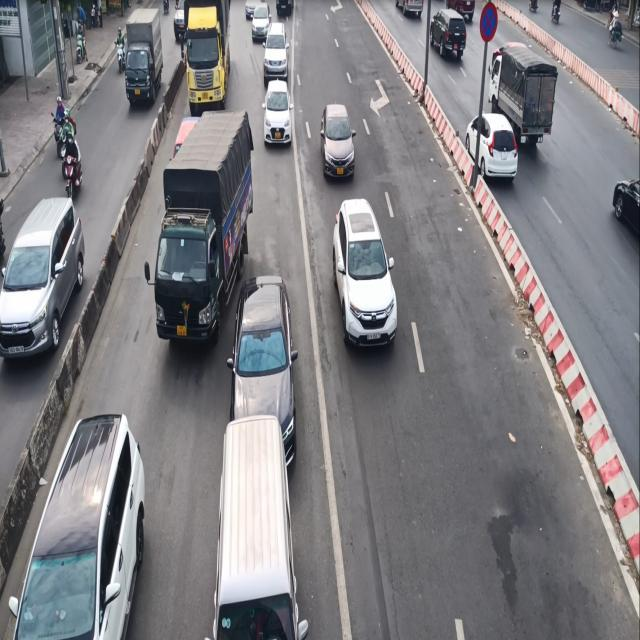car: (6, 412, 146, 639), (209, 414, 309, 639), (225, 274, 298, 471), (0, 196, 85, 360), (331, 197, 398, 350), (611, 177, 639, 237)
truck: (143, 108, 254, 346)
